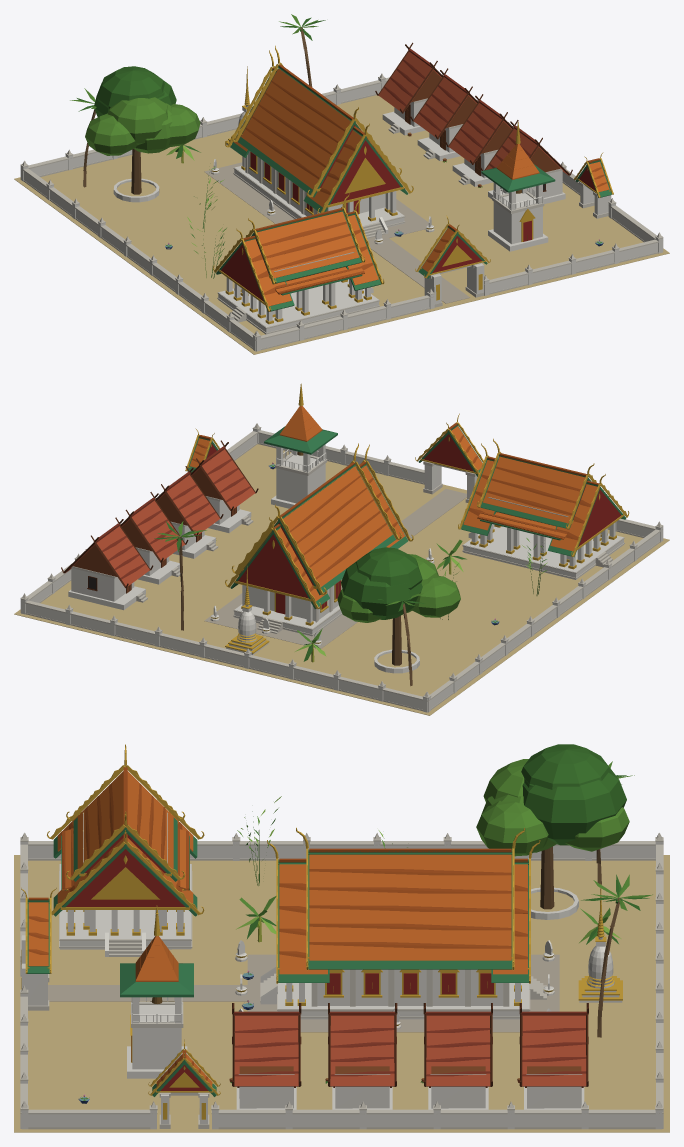
Rendered from temple_2.glb.
3 renders of one model, top to bottom at view 1: azimuth 30°, elevation 25°; view 2: azimuth 150°, elevation 25°; view 3: azimuth 270°, elevation 25°, orthographic. The views are drawn at different scales.
Parts seen in each view (by area): view 1: body; view 2: body; view 3: body.
Part boxes in pixels (x1,y1,x2,y2): body: (14,14,669,354); body: (14,383,669,715); body: (14,744,669,1132).
Size of the model in its own units: 47.9 by 13.72 by 47.9.
